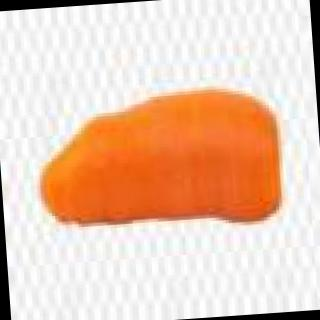Wortel: (19, 80, 285, 244)
